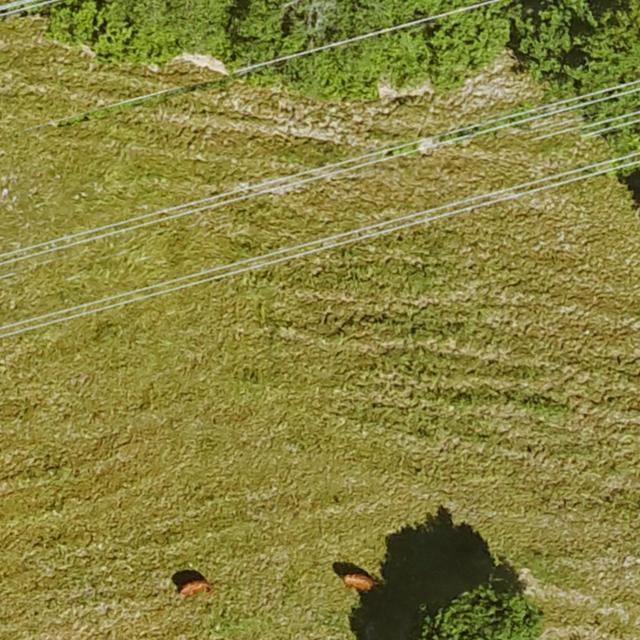tree: (519, 0, 640, 90), (411, 586, 545, 640)
